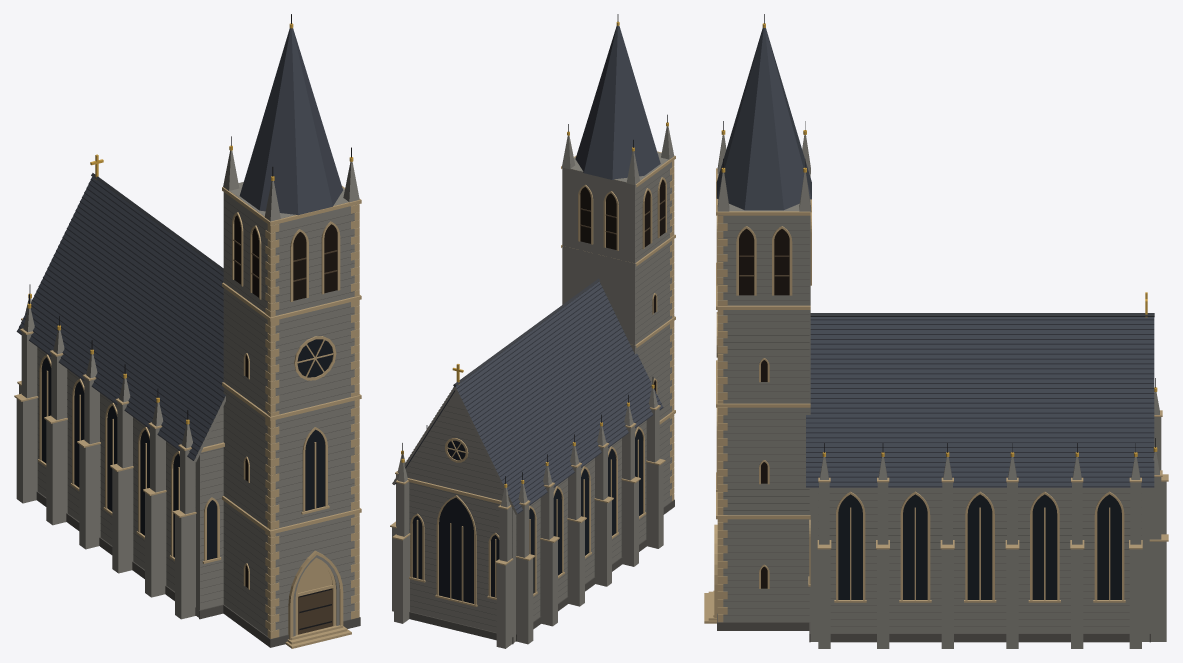
The model's file is dom.glb.
The picture shows the model from 3 angles, left to right: view 1: azimuth 30°, elevation 25°; view 2: azimuth 150°, elevation 25°; view 3: azimuth 270°, elevation 25°; orthographic projection. The views are drawn at different scales.
Parts seen in each view (by area): view 1: Turm, Dach, Wand_links, Wand_vorne; view 2: Dach, Turm, Wand_links, Wand_hinten; view 3: Dach, Wand_rechts, Turm, Wand_hinten, Wand_vorne.
Boxes of the visible parts, <box> form: Turm: <box>222,14,361,648</box>; Dach: <box>16,154,225,461</box>; Wand_links: <box>14,294,196,619</box>; Wand_vorne: <box>196,442,224,619</box>; Dach: <box>392,278,663,514</box>; Turm: <box>561,14,675,514</box>; Wand_links: <box>515,377,665,644</box>; Wand_hinten: <box>392,451,515,648</box>; Dach: <box>806,292,1154,487</box>; Wand_rechts: <box>817,443,1142,648</box>; Turm: <box>704,14,811,630</box>; Wand_hinten: <box>1142,378,1168,642</box>; Wand_vorne: <box>808,487,818,642</box>.
Bounding box in the file's own units: 12.48 × 42.6 × 30.14.
